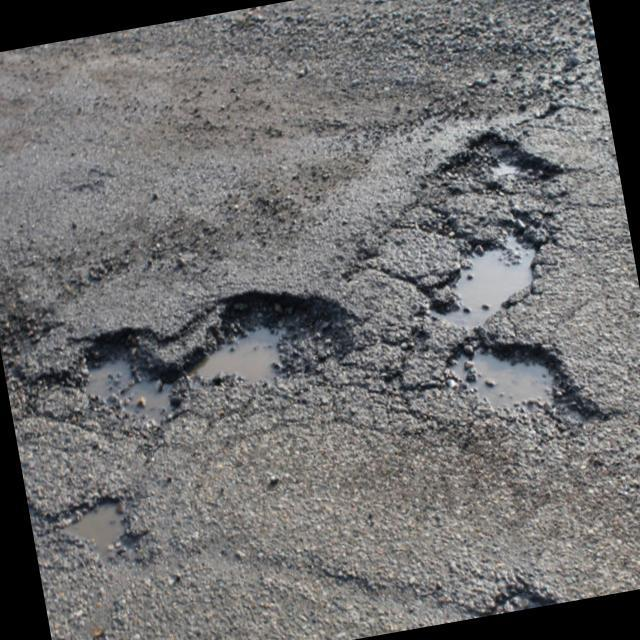Pothole: (70, 270, 364, 446), (393, 199, 564, 349), (442, 312, 598, 451), (428, 111, 562, 207), (49, 478, 140, 565), (491, 576, 561, 614)
